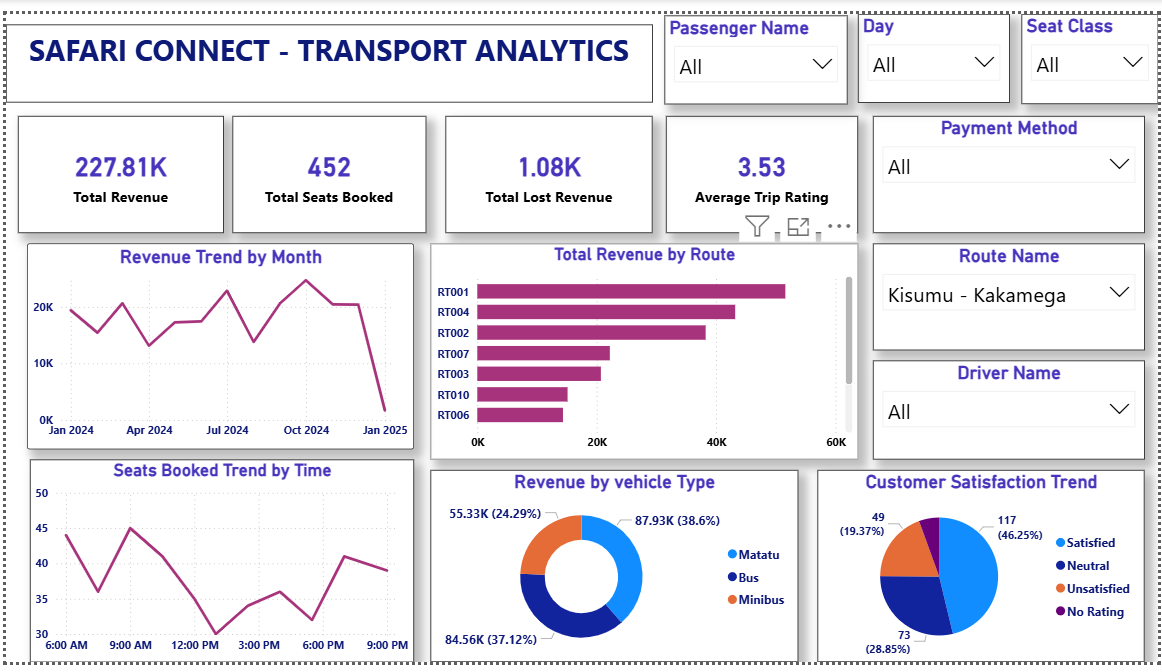

This screenshot's page, from the dashboard's own definition file:
{"tool":"powerbi","page":{"name":"Dashboard","canvas":[1280,720],"ordinal":0},"visuals":[{"type":"textbox","box":[0,11.7,718.3,86.7],"z":0},{"type":"card","fields":{"Values":["safari_connect v_cancellation_analysis.Total Revenue"]},"box":[13.3,113.3,228.3,130],"z":1000},{"type":"card","fields":{"Values":["safari_connect v_cancellation_analysis.Average Trip Rating"]},"box":[733.3,113.3,213.3,130],"z":2000},{"type":"card","fields":{"Values":["safari_connect v_cancellation_analysis.Total Lost Revenue"]},"box":[488.3,113.3,230,130],"z":3000},{"type":"card","fields":{"Values":["safari_connect v_cancellation_analysis.Total Seats Booked"]},"box":[251.7,113.3,215,130],"z":4000},{"type":"slicer","title":"Payment Method","fields":{"Values":["safari_connect v_clean_trips.payment_method"]},"box":[963.3,113.3,301.7,130],"z":5000},{"type":"slicer","title":"Day","fields":{"Values":["safari_connect v_clean_trips.day_name"]},"box":[946.7,0,168.3,98.3],"z":6000},{"type":"slicer","title":"Passenger Name","fields":{"Values":["safari_connect v_clean_trips.passenger_name"]},"box":[731.7,1.7,203.3,98.3],"z":7000},{"type":"slicer","title":"Seat Class","fields":{"Values":["safari_connect v_clean_trips.seat_class"]},"box":[1128.3,0,151.7,100],"z":8000},{"type":"barChart","title":"Total Revenue by Route","fields":{"Category":["safari_connect v_clean_trips.route_code"],"Y":["Sum(safari_connect v_clean_trips.total_fare)"]},"box":[471.7,255,475,240],"z":9000},{"type":"slicer","title":"Route Name","fields":{"Values":["safari_connect v_route_analysis.name"]},"box":[963.3,255,301.7,118.3],"z":10000},{"type":"slicer","title":"Driver Name","fields":{"Values":["safari_connect v_clean_trips.driver_name"]},"box":[963.3,385,301.7,110],"z":11000},{"type":"lineChart","title":"Revenue Trend by Month","fields":{"Y":["Sum(safari_connect v_clean_trips.total_fare)"],"Category":["safari_connect v_clean_trips.month_label"]},"box":[23.3,255,430,228.3],"z":12000},{"type":"lineChart","title":"Seats Booked Trend by Time","fields":{"Category":["safari_connect v_clean_trips.departure_time"],"Y":["Sum(safari_connect v_clean_trips.seats_booked)"]},"box":[26.7,495,426.7,225],"z":13000},{"type":"donutChart","title":"Revenue by vehicle Type","fields":{"Category":["safari_connect v_clean_trips.vehicle_type"],"Y":["Sum(safari_connect v_clean_trips.total_fare)"]},"box":[471.7,506.7,408.3,213.3],"z":14000},{"type":"pieChart","title":"Customer Satisfaction Trend","fields":{"Category":["safari_connect v_clean_trips.satisfaction"],"Y":["CountNonNull(safari_connect v_clean_trips.booking_id)"]},"box":[901.7,506.7,363.3,213.3],"z":15000}]}

Visuals, with their boxes in screenshot pixels (x1, y1, x2, y2), scaled from the page's 1280x720 canvas onto the 1162x672 screenshot:
textbox: [0, 11, 652, 92]
card - safari_connect v_cancellation_analysis.Total Revenue: [12, 106, 219, 227]
card - safari_connect v_cancellation_analysis.Average Trip Rating: [666, 106, 859, 227]
card - safari_connect v_cancellation_analysis.Total Lost Revenue: [443, 106, 652, 227]
card - safari_connect v_cancellation_analysis.Total Seats Booked: [228, 106, 424, 227]
"Payment Method" slicer: [874, 106, 1148, 227]
"Day" slicer: [859, 0, 1012, 92]
"Passenger Name" slicer: [664, 2, 849, 93]
"Seat Class" slicer: [1024, 0, 1161, 93]
"Total Revenue by Route" barChart: [428, 238, 859, 462]
"Route Name" slicer: [874, 238, 1148, 348]
"Driver Name" slicer: [874, 359, 1148, 462]
"Revenue Trend by Month" lineChart: [21, 238, 412, 451]
"Seats Booked Trend by Time" lineChart: [24, 462, 412, 671]
"Revenue by vehicle Type" donutChart: [428, 473, 799, 671]
"Customer Satisfaction Trend" pieChart: [819, 473, 1148, 671]
